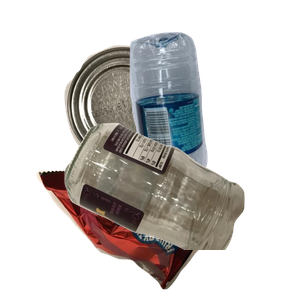glass: (62, 120, 300, 300)
metal: (62, 43, 232, 198)
plastic: (127, 29, 300, 209)
trash: (34, 136, 253, 300)
